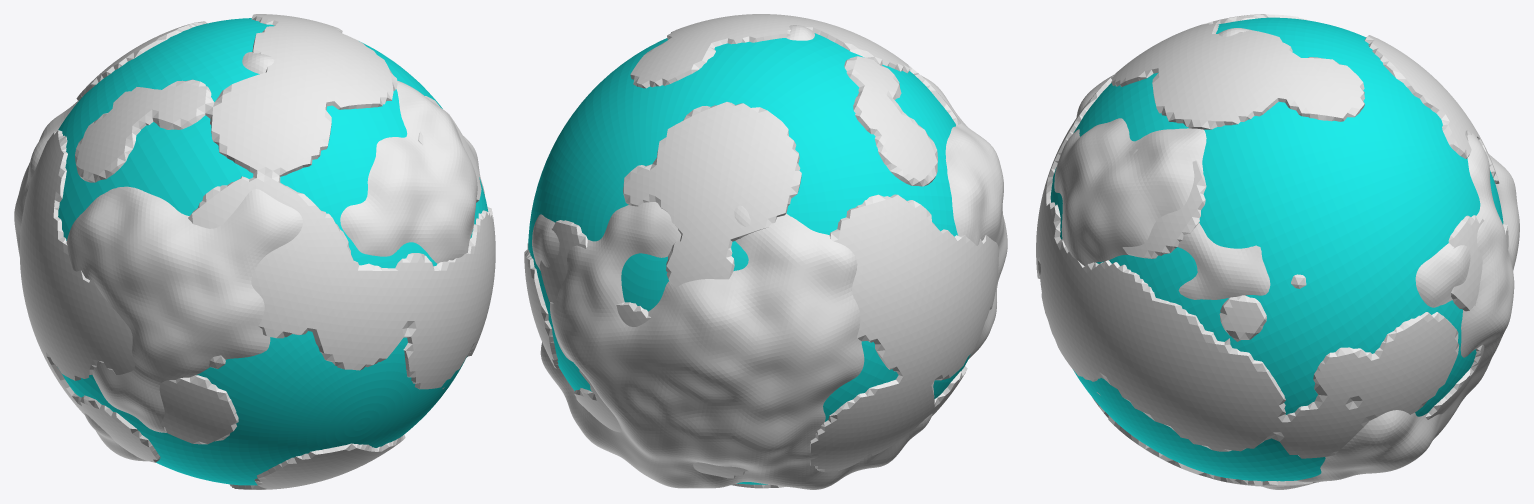
File: planet 1.fbx
The picture shows the model from 3 angles, left to right: view 1: azimuth 30°, elevation 25°; view 2: azimuth 150°, elevation 25°; view 3: azimuth 270°, elevation 25°; orthographic projection.
Parts seen in each view (by area): view 1: Cube; view 2: Cube; view 3: Cube.
Boxes of the visible parts, x1,y1,x2,y2 form: Cube: (14, 14, 495, 489); Cube: (524, 14, 1007, 489); Cube: (1036, 14, 1519, 489).
Size of the model in its own units: 204 by 206 by 210.
